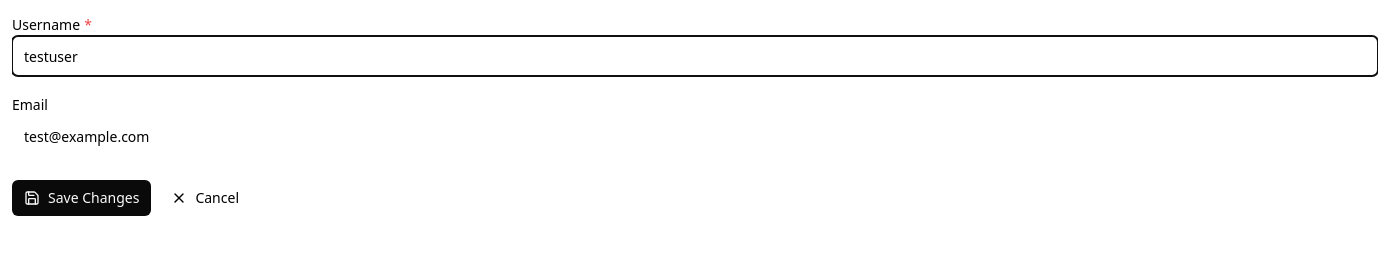
Test: ProfileEditForm › Form Validation › should validate email format and display error - Requirement 5.1, 5.3
The width and height of the screenshot is (1390, 257).
Replace the text in the field labelled "Email" with "invalid-email" at (695, 136), box [12, 116, 1378, 156]
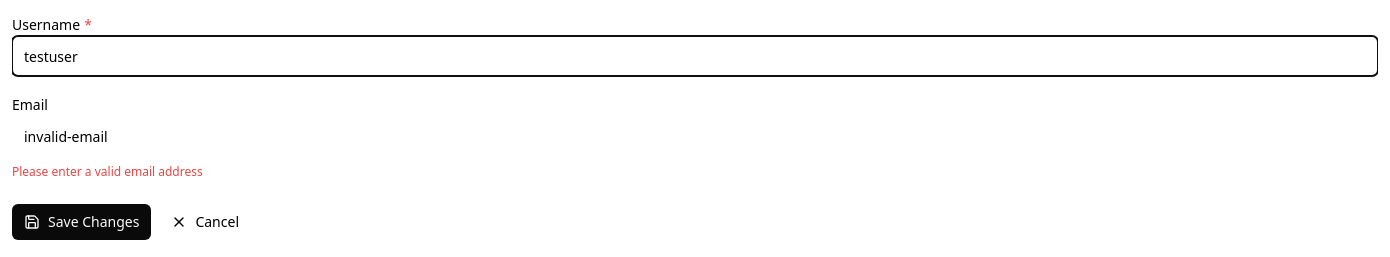
Expected: the text "Please enter a valid email address" is shown, [12, 163, 203, 180]
